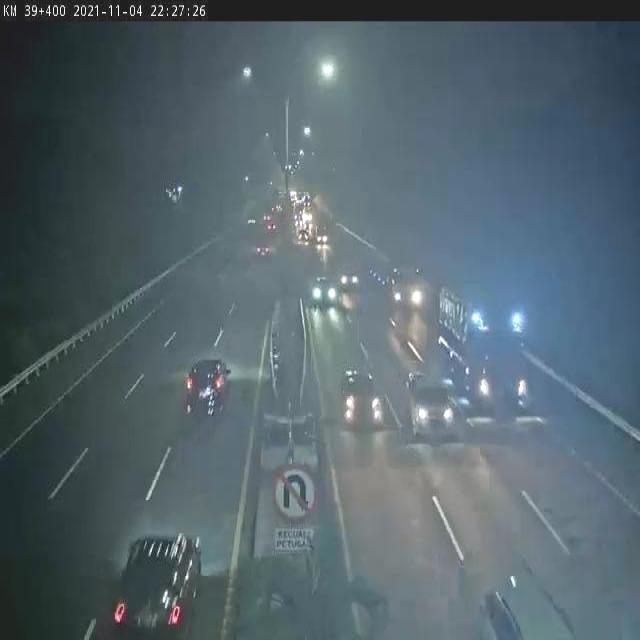Car: (97, 519, 209, 639), (168, 351, 238, 421), (335, 372, 402, 439), (404, 372, 454, 444), (388, 259, 433, 312), (335, 262, 365, 292), (309, 279, 337, 308), (251, 238, 278, 268)
